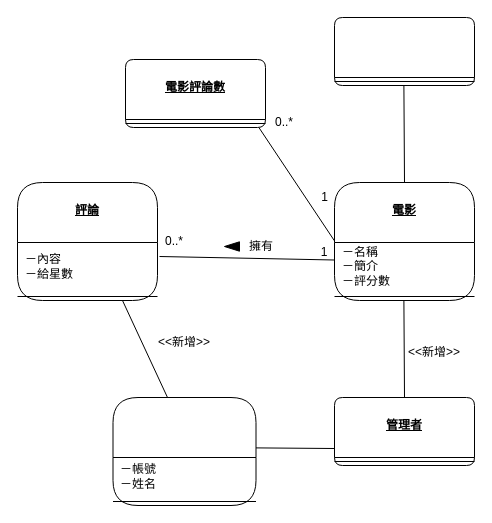
Image size: 492x523. Some labels were removed from this diagram. Here are the shapes that lost their labels. From the top down, the box of each, then its label:
(334, 16, 474, 86): 電影星等數
(112, 396, 256, 506): 使用者
